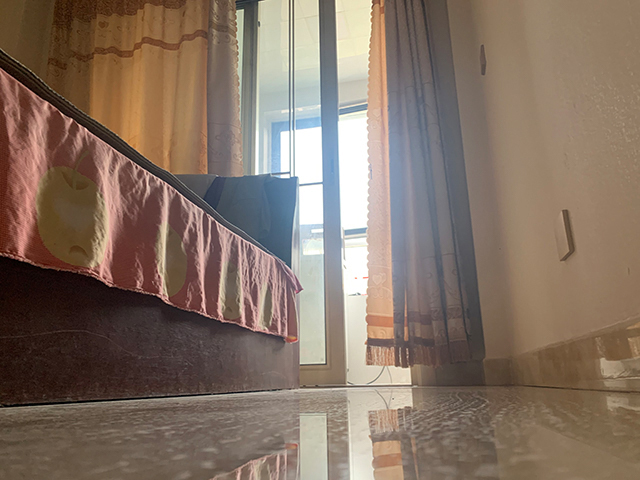bed: (1, 48, 304, 407)
curtain: (364, 1, 486, 368), (49, 2, 244, 178)
